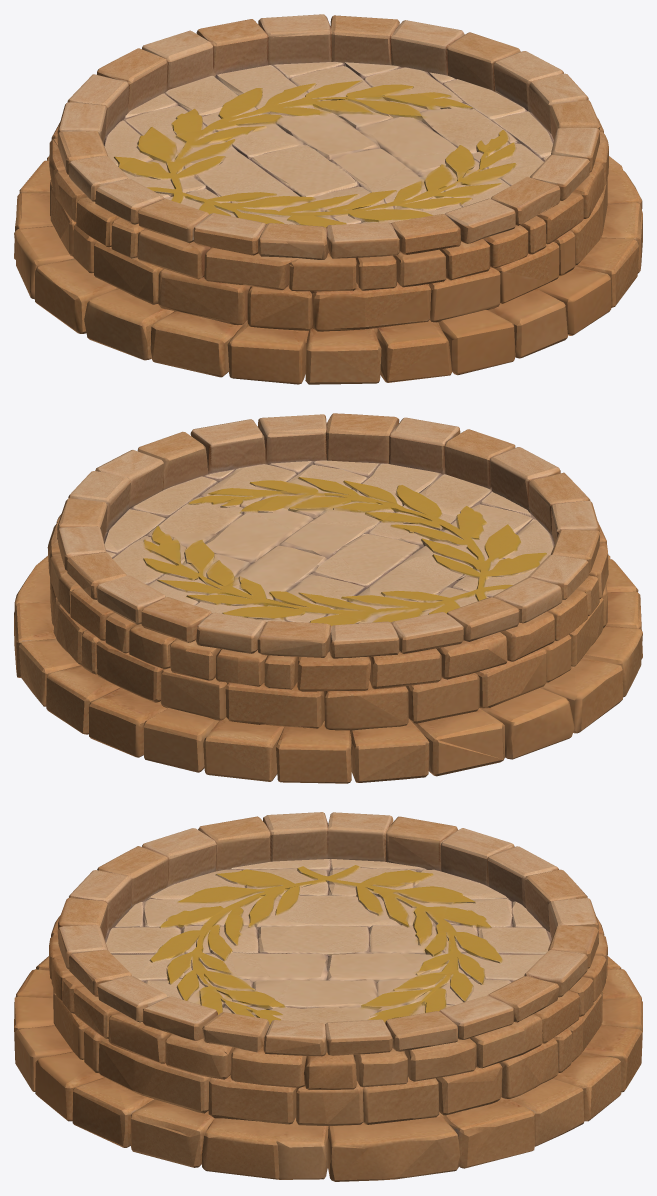
File: plateau.glb
The picture shows the model from 3 angles, top to bottom: view 1: azimuth 30°, elevation 25°; view 2: azimuth 150°, elevation 25°; view 3: azimuth 270°, elevation 25°; orthographic projection.
Bounding box in the file's own units: 1.9 × 0.426 × 1.9.
1 material, 1 textured.
